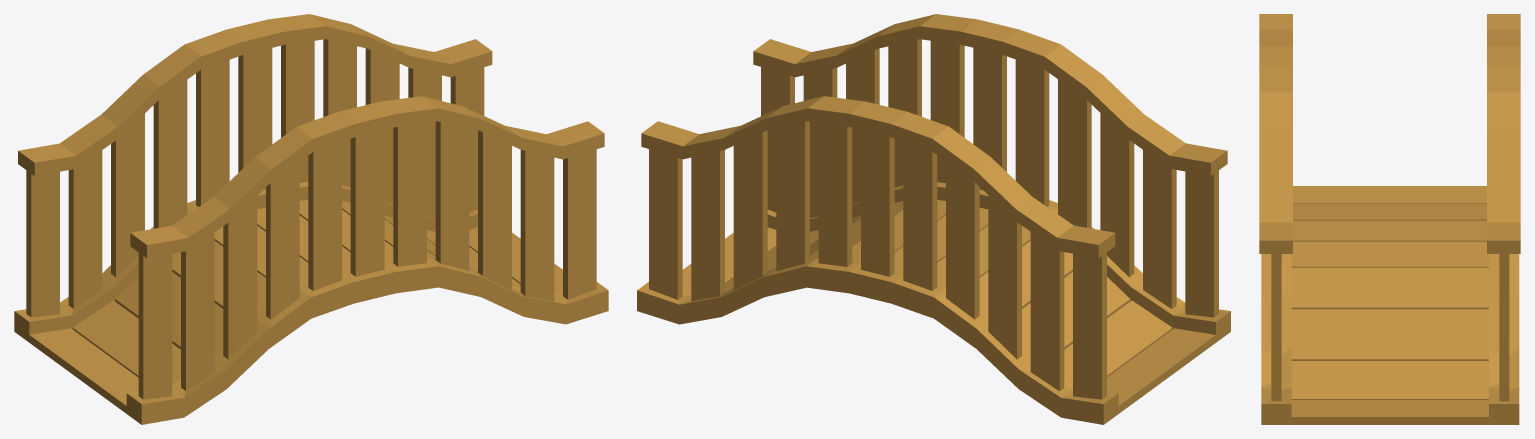
The model's file is hasi.fbx.
3 views of the same model, side by side, from view 1: azimuth 30°, elevation 25°; view 2: azimuth 150°, elevation 25°; view 3: azimuth 270°, elevation 25° (orthographic).
Parts seen in each view (by area): view 1: 立方体; view 2: 立方体; view 3: 立方体.
Part boxes in pixels (x1=…): 立方体: x1=14, y1=14, x2=608, y2=424; 立方体: x1=637, y1=14, x2=1230, y2=424; 立方体: x1=1259, y1=14, x2=1520, y2=424.
Size of the model in its own units: 358 by 185 by 171.
